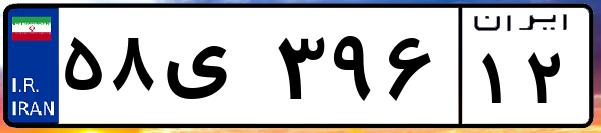1: (475, 38, 525, 113)
2: (525, 38, 570, 115)
3: (270, 28, 330, 110)
5: (57, 26, 110, 100)
6: (385, 28, 445, 110)
8: (110, 28, 158, 98)
9: (330, 28, 385, 110)
ی: (158, 20, 270, 120)
